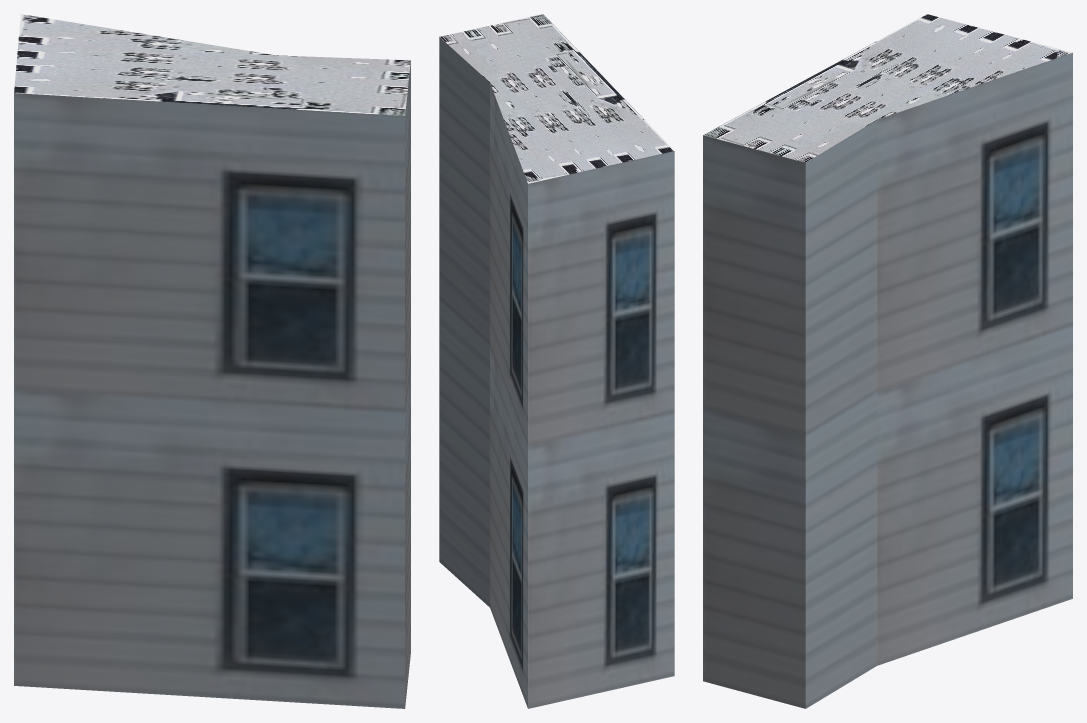
File: ResTex__1410.fbx
3 renders of one model, left to right at view 1: azimuth 30°, elevation 25°; view 2: azimuth 150°, elevation 25°; view 3: azimuth 270°, elevation 25°, orthographic. The views are drawn at different scales.
Parts seen in each view (by area): view 1: CityEngineMaterial_18_m, CityEngineMaterial_8_m; view 2: CityEngineMaterial_18_m, CityEngineMaterial_8_m; view 3: CityEngineMaterial_18_m, CityEngineMaterial_8_m.
Part boxes in pixels (x1,y1,x2,y2): CityEngineMaterial_18_m: (14,61,410,708); CityEngineMaterial_8_m: (14,14,410,115); CityEngineMaterial_18_m: (439,37,674,708); CityEngineMaterial_8_m: (439,14,673,183); CityEngineMaterial_18_m: (703,53,1072,708); CityEngineMaterial_8_m: (703,14,1072,162).
Size of the model in its own units: 3.51 by 6 by 3.68.
Materials: 2 (2 with a texture image).
